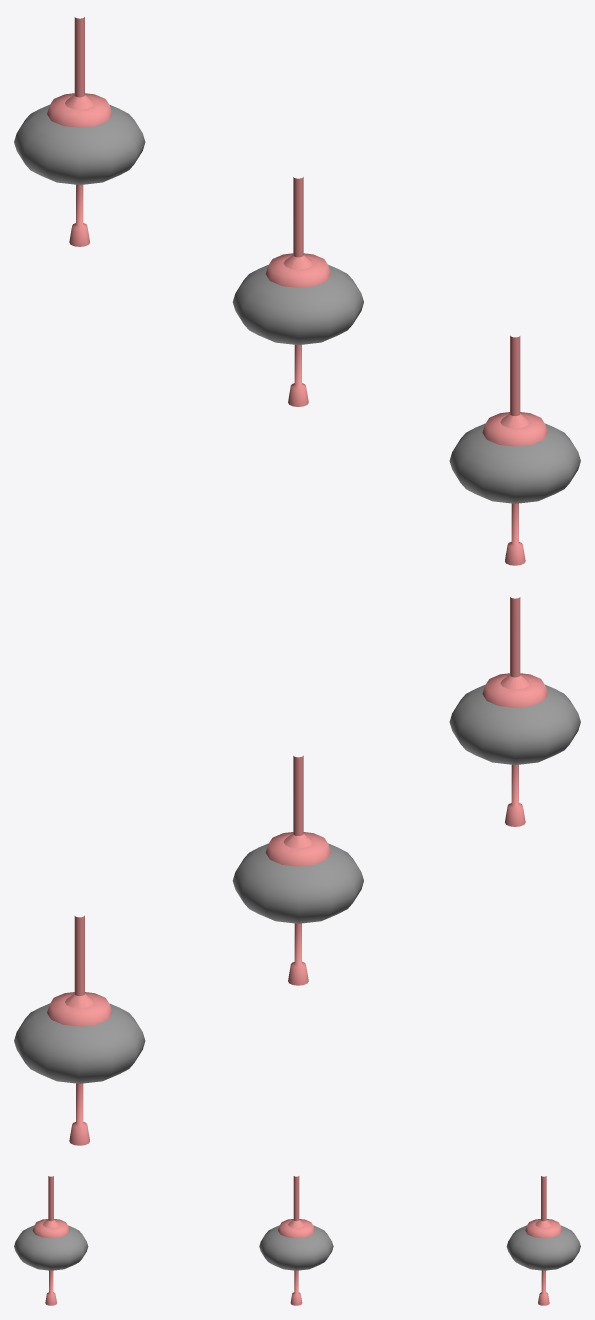
File: CHN_SmallHouseLanterns01.gltf
3 views of the same model, one above another, from view 1: azimuth 30°, elevation 25°; view 2: azimuth 150°, elevation 25°; view 3: azimuth 270°, elevation 25° (orthographic). The views are drawn at different scales.
Parts seen in each view (by area): view 1: CHN_SmallHouseLanterns01; view 2: CHN_SmallHouseLanterns01; view 3: CHN_SmallHouseLanterns01.
Boxes of the visible parts, box(x1,y1,x2,y2) form: CHN_SmallHouseLanterns01: box(14, 17, 580, 565); CHN_SmallHouseLanterns01: box(14, 597, 580, 1145); CHN_SmallHouseLanterns01: box(14, 1176, 580, 1305).
Bounding box in the file's own units: 1.53 × 2.9 × 11.67.
